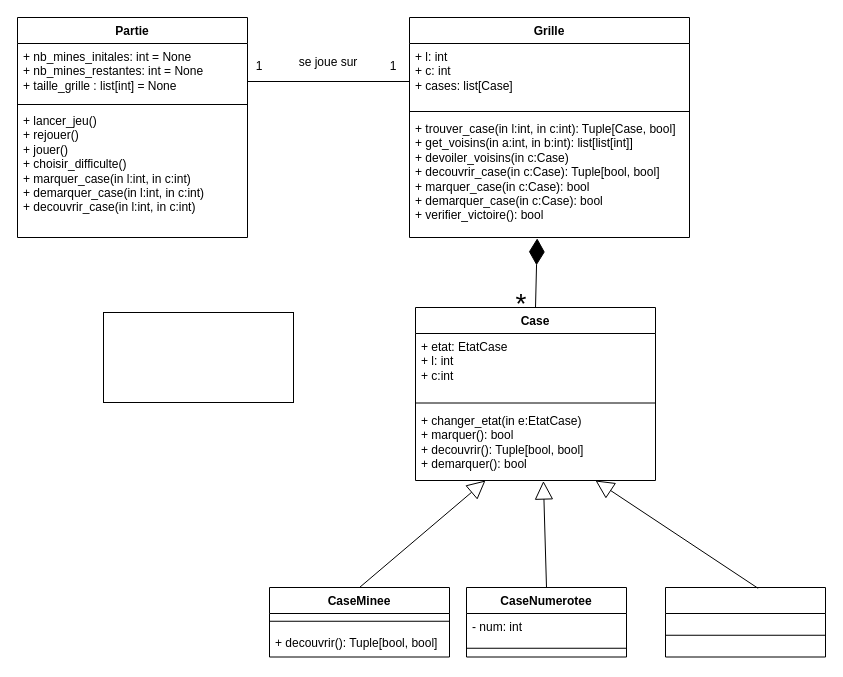
This 843x677 diagram has some shape labels left out. Here are the shapes that lost their labels. From the top down, the centre of each, then its label:
At pixel 198 357: "<<Enumeration>> EtatCase masquee devoilee cachee".
At pixel 745 621: "CaseVide".
